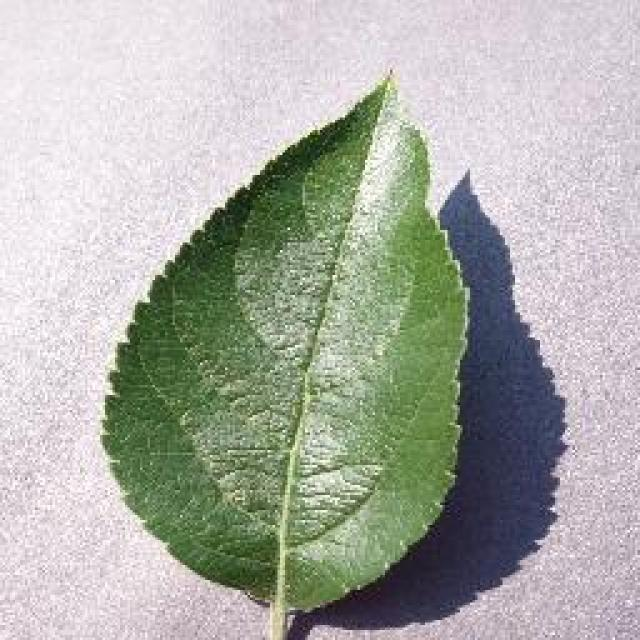apple healthy: (98, 68, 472, 638)
